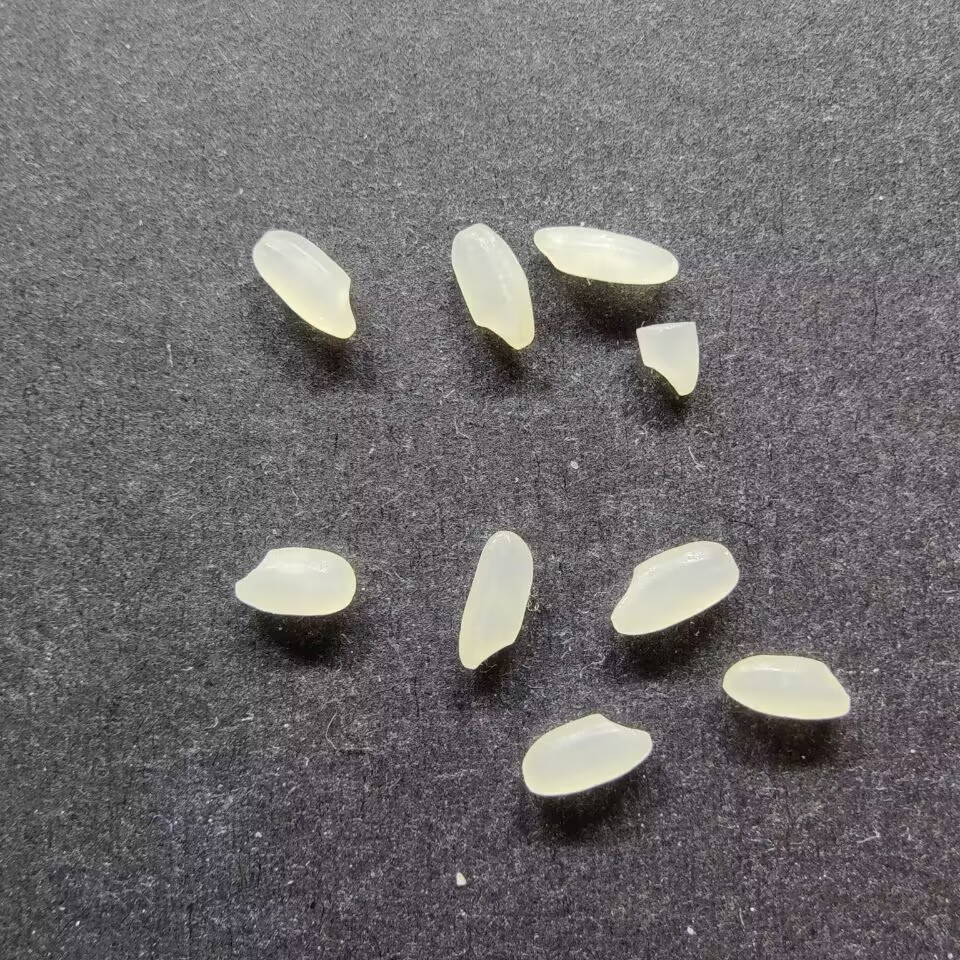broken: (634, 320, 700, 396)
rice: (609, 539, 738, 636), (251, 229, 356, 340), (449, 222, 535, 350), (521, 714, 653, 797), (457, 530, 534, 670), (532, 225, 678, 285), (721, 654, 851, 720), (233, 546, 355, 616)
